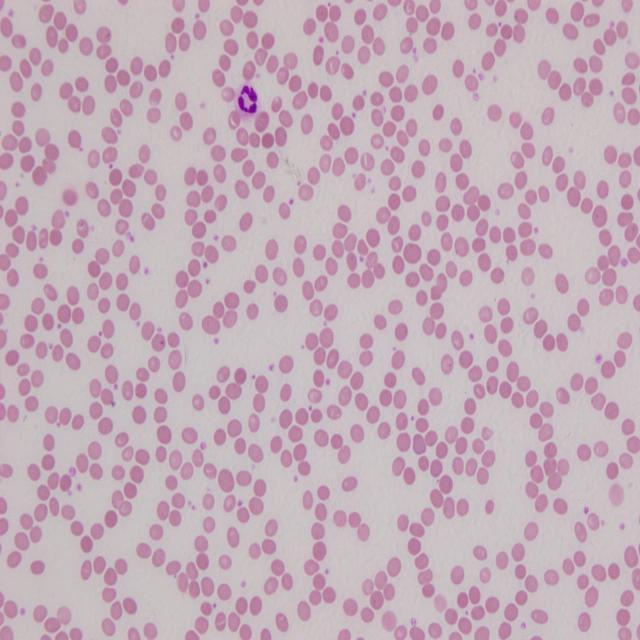cell: (238, 85, 258, 113)
